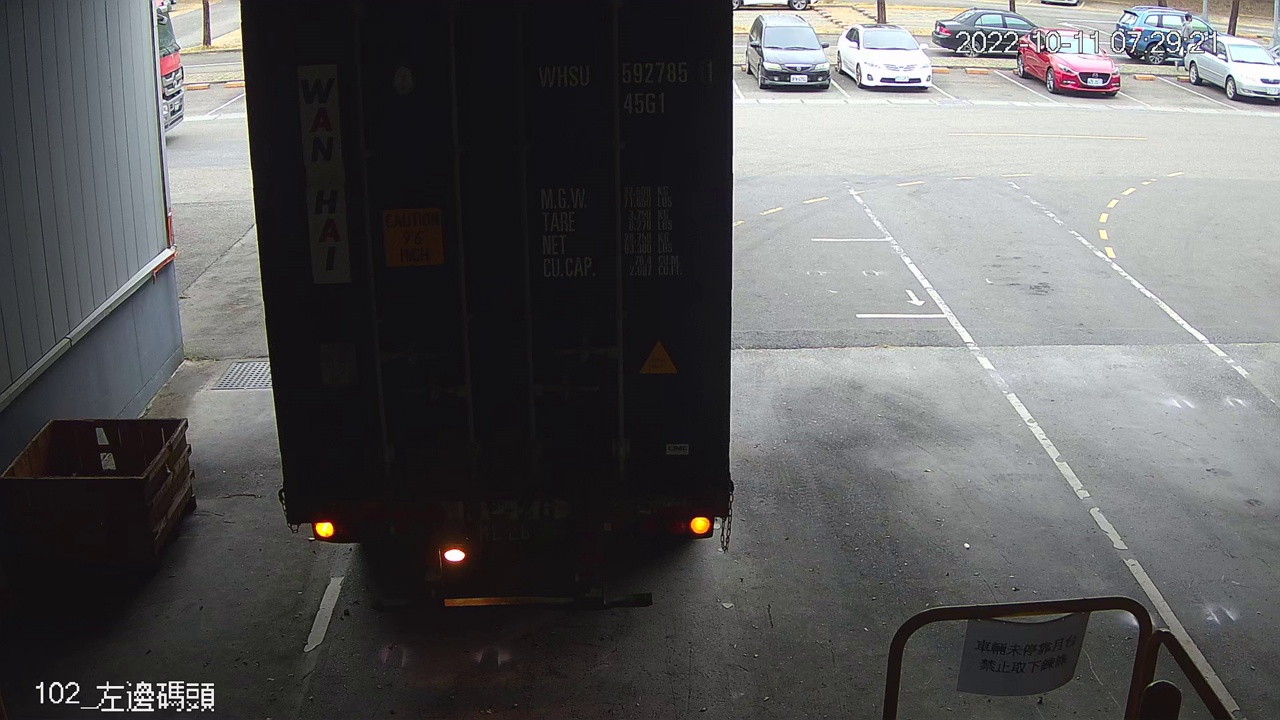container: (525, 52, 721, 122)
